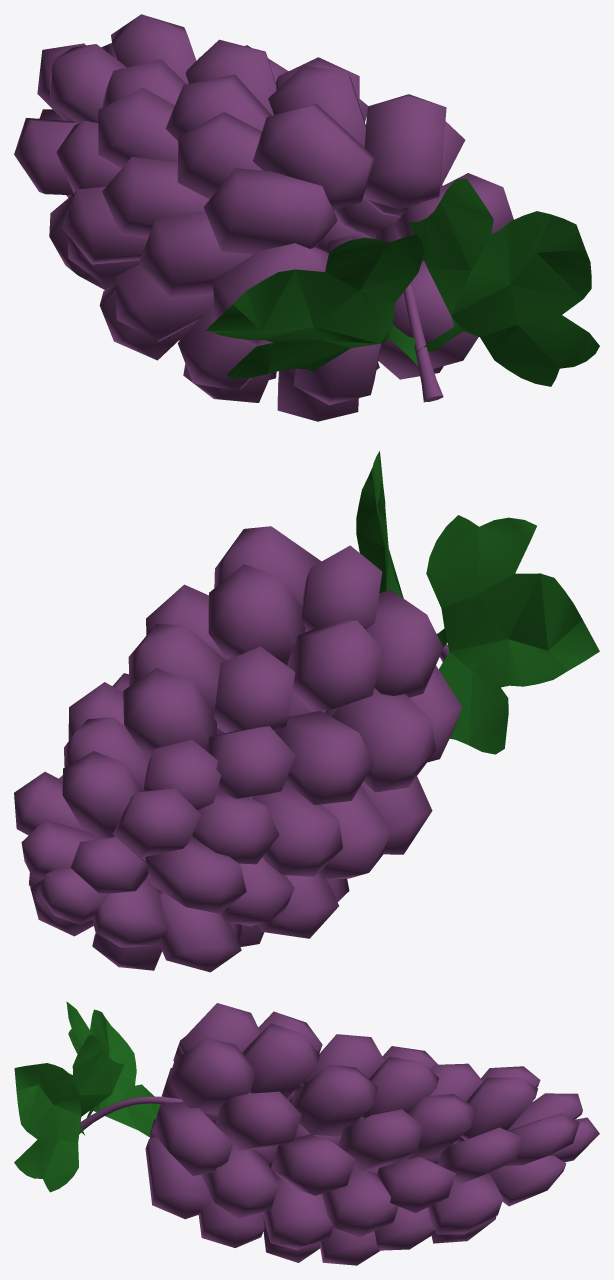
The model's file is M_O_Grapes.fbx.
3 renders of one model, top to bottom at view 1: azimuth 30°, elevation 25°; view 2: azimuth 150°, elevation 25°; view 3: azimuth 270°, elevation 25°, orthographic. The views are drawn at different scales.
Visible parts, largest first — view 1: M_Grape_0, M_Leaf_2, M_Leaf3; view 2: M_Grape_0, M_Leaf3, M_Leaf_2; view 3: M_Grape_0, M_Leaf_2, M_Leaf3.
Part boxes in pixels (left/top/right/bottom): M_Grape_0: left=14, top=14, right=513, bottom=421; M_Leaf_2: left=409, top=179, right=599, bottom=386; M_Leaf3: left=206, top=234, right=425, bottom=378; M_Grape_0: left=14, top=526, right=461, bottom=972; M_Leaf3: left=426, top=515, right=599, bottom=754; M_Leaf_2: left=356, top=451, right=403, bottom=598; M_Grape_0: left=79, top=1003, right=599, bottom=1265; M_Leaf_2: left=14, top=1035, right=124, bottom=1192; M_Leaf3: left=66, top=1001, right=160, bottom=1137.
Bounding box in the file's own units: 5.1 × 4.6 × 10.16.
